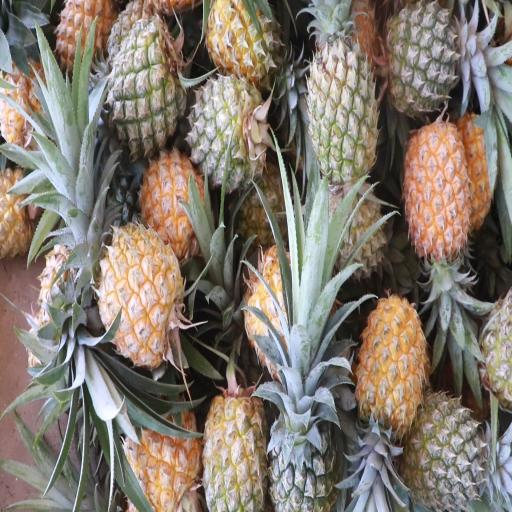Pineapple - v8 v1: (95, 216, 186, 372), (353, 288, 428, 439), (402, 118, 474, 272), (202, 371, 272, 512), (139, 148, 215, 268), (206, 4, 292, 88), (53, 0, 119, 85)
